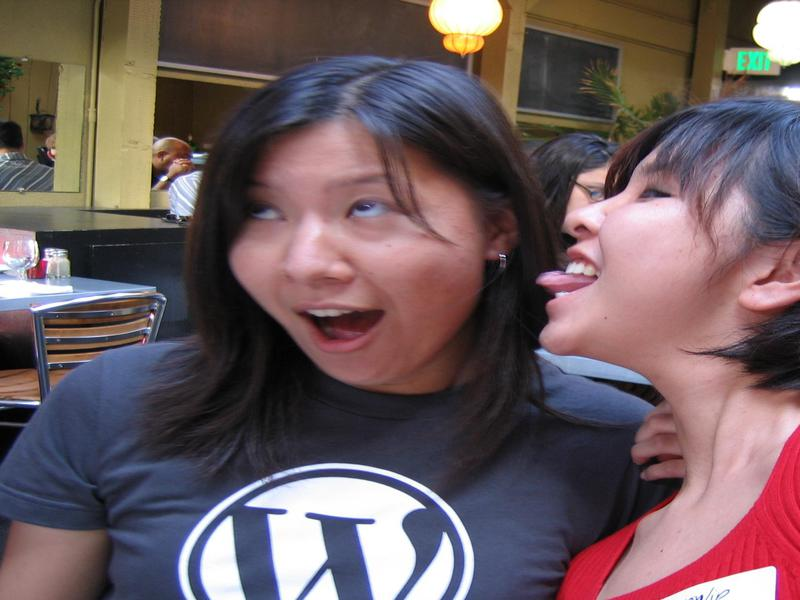person: (4, 55, 666, 598), (522, 89, 799, 600)
